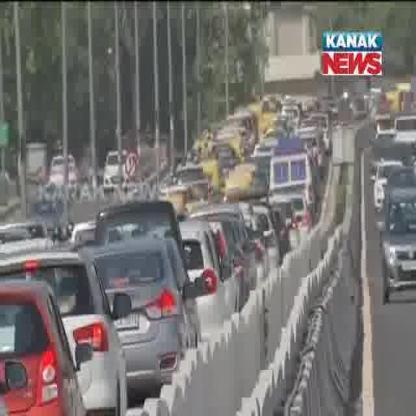priority: (267, 134, 317, 200)
